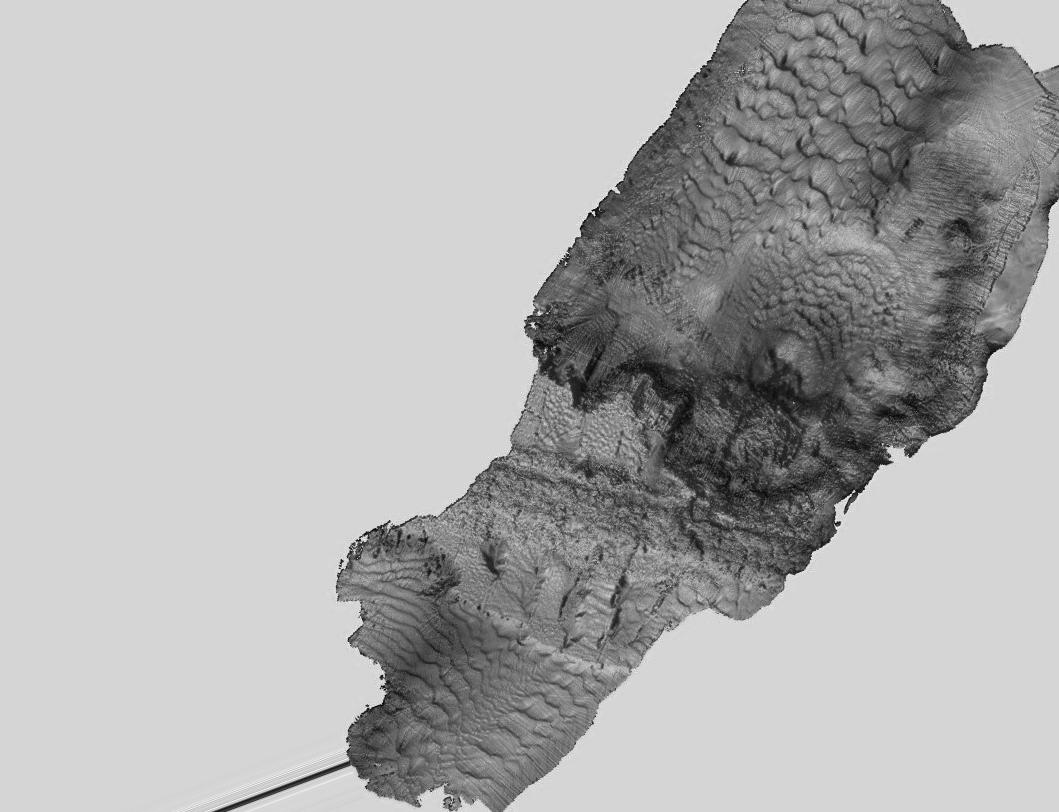Dune: (387, 656, 567, 795), (760, 22, 900, 174), (692, 116, 863, 236), (757, 248, 908, 334), (337, 541, 434, 666)
Scarp: (858, 333, 1038, 541)
Scour pit: (717, 322, 863, 439)
Submerged dike: (442, 443, 860, 617)
